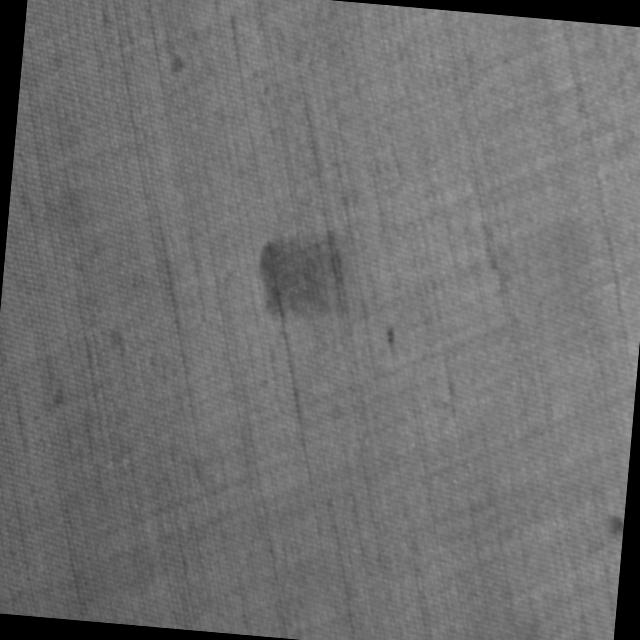oil spot: (254, 220, 362, 328)
